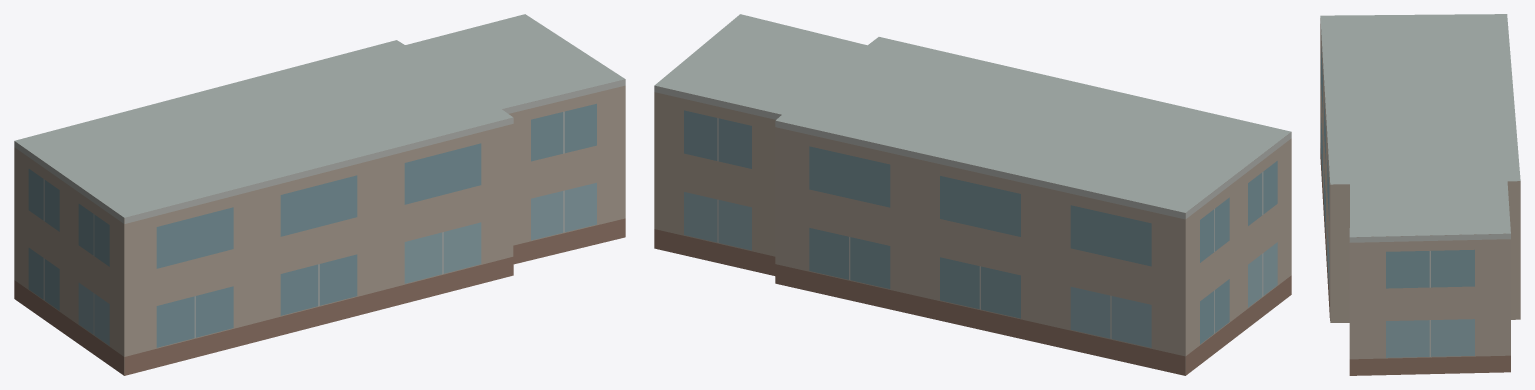
Rendered from survey-upis-33014579.glb.
3 renders of one model, left to right at view 1: azimuth 30°, elevation 25°; view 2: azimuth 150°, elevation 25°; view 3: azimuth 270°, elevation 25°, orthographic. The views are drawn at different scales.
Visible parts, largest first — view 1: survey-upis-33014579.tmp; view 2: survey-upis-33014579.tmp; view 3: survey-upis-33014579.tmp.
Boxes of the visible parts, box(x1,y1,x2,y2) form: survey-upis-33014579.tmp: box(14, 14, 625, 375); survey-upis-33014579.tmp: box(654, 14, 1291, 375); survey-upis-33014579.tmp: box(1320, 14, 1520, 375).
Bounding box in the file's own units: 21.08 × 6.1 × 8.
